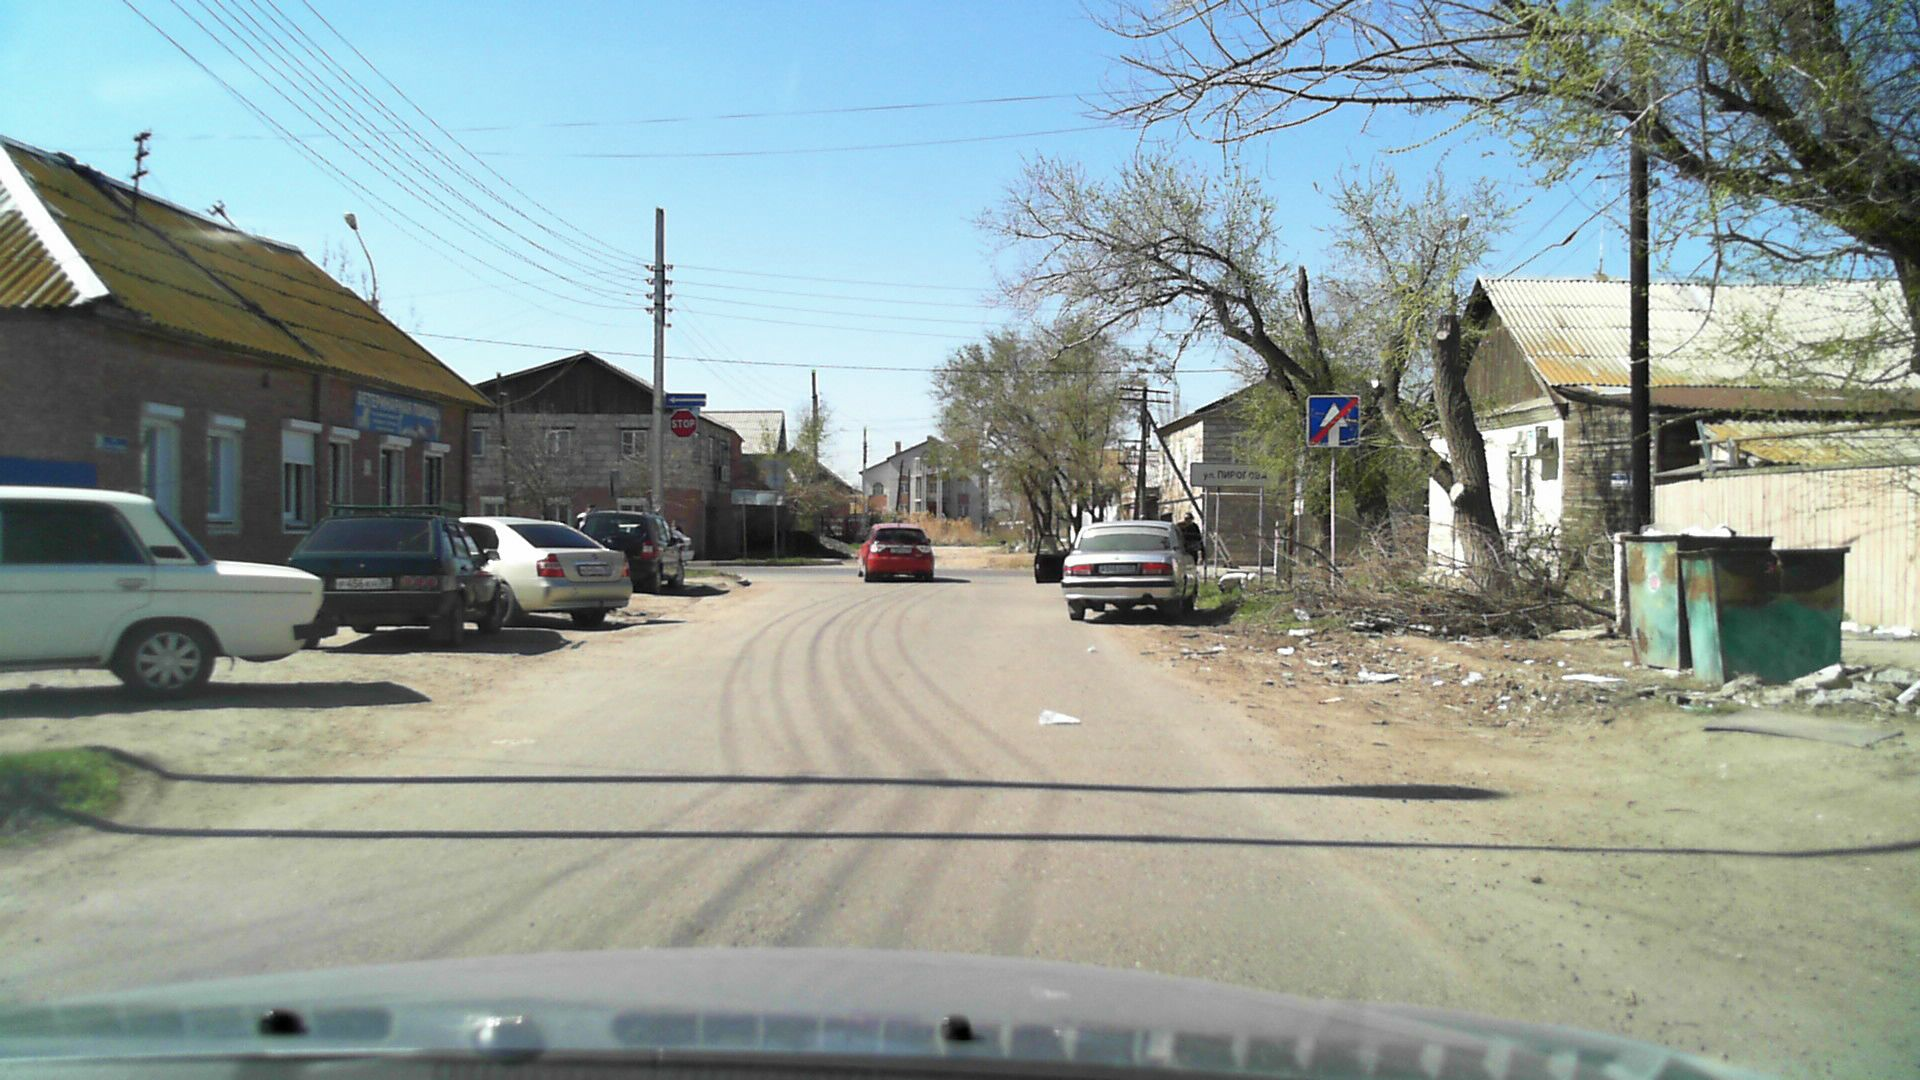One-Way Traffic: (665, 394, 705, 406)
